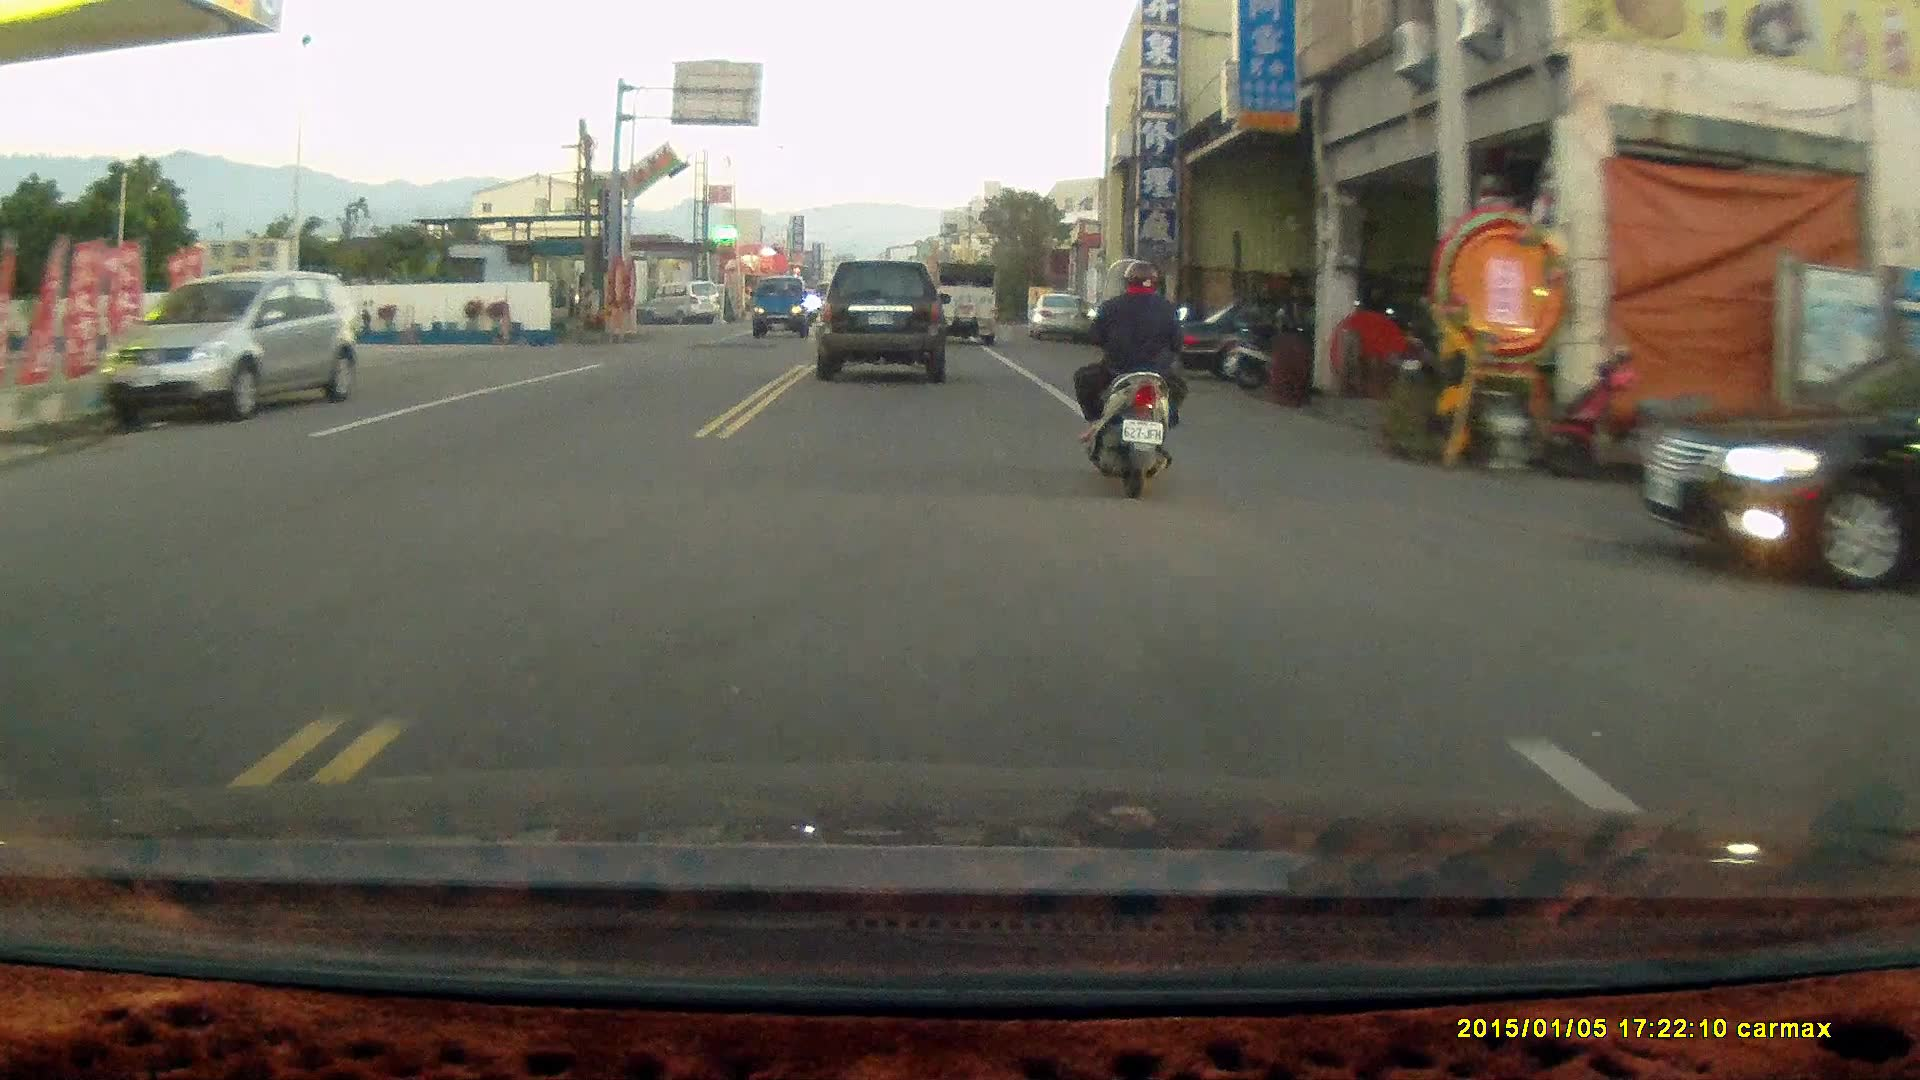rider: (1070, 258, 1183, 499)
vehicle: (1641, 351, 1920, 595), (89, 270, 361, 425), (813, 262, 954, 390), (928, 261, 1001, 347), (749, 276, 813, 339), (639, 282, 722, 327), (1027, 293, 1083, 342)
